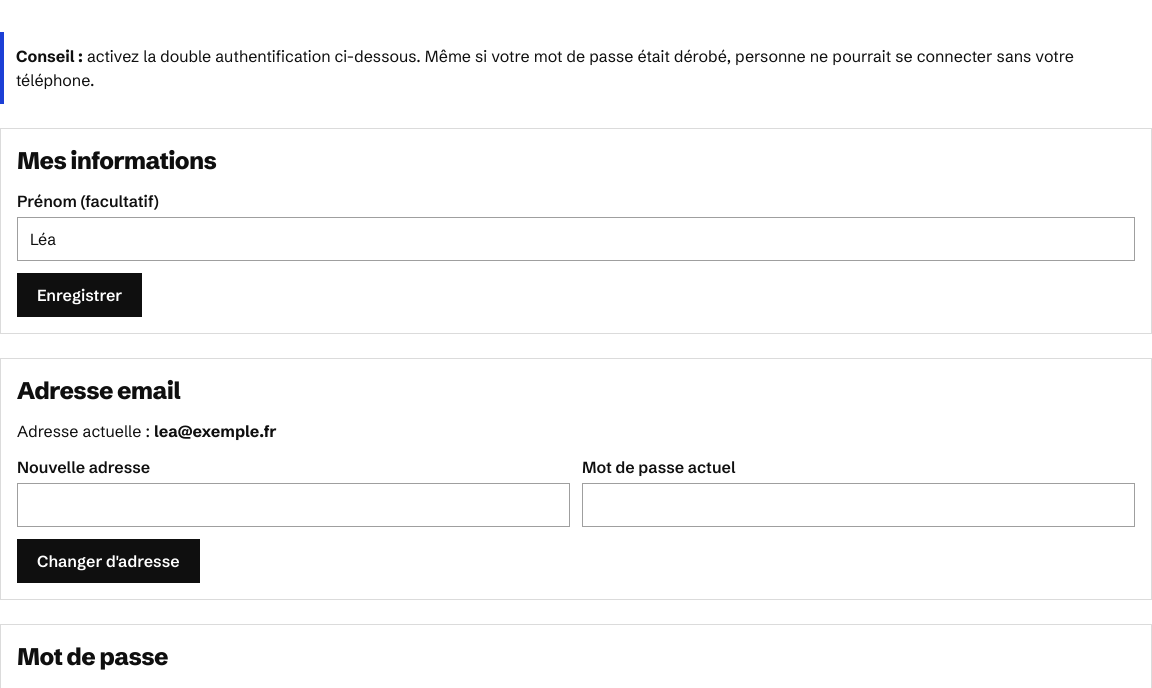
Test: AccountSettings : email › mot de passe refusé : erreur affichée et formulaire conservé
This screenshot has width=1152, height=688.
Type "autre@exemple.fr" into the field labelled "Nouvelle adresse".
click(294, 505); type("autre@exemple.fr")  # box [17,483,570,527]
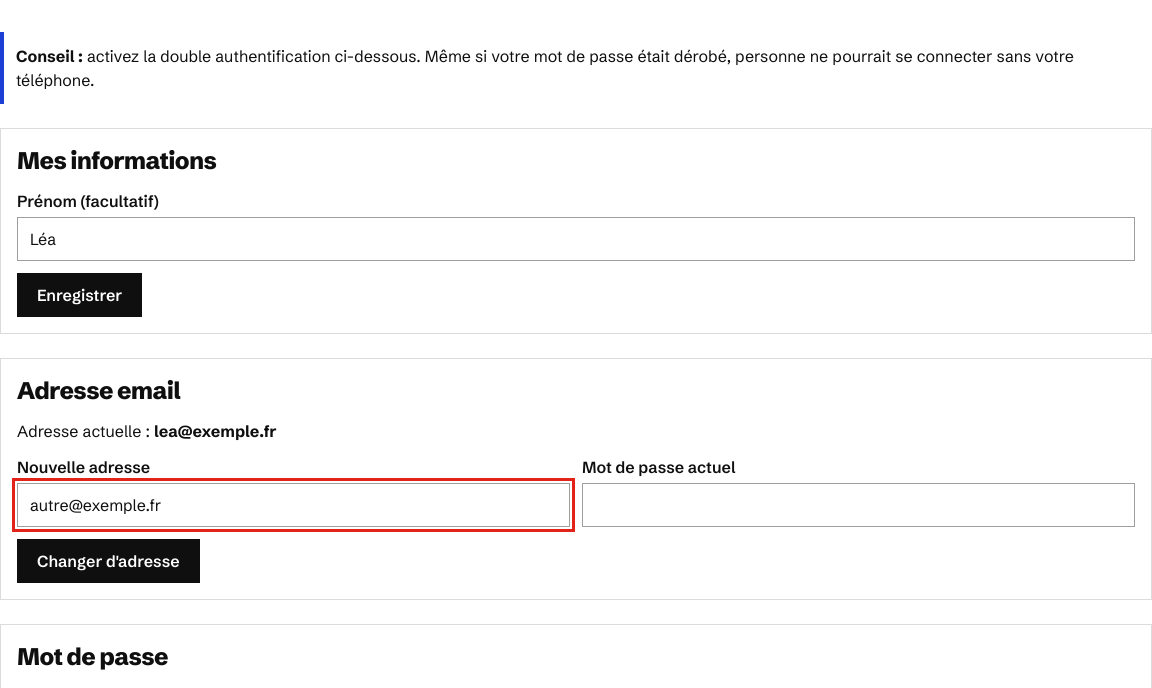
Type "Ancien-mot-2026" into the 1st password field labelled "Mot de passe actuel".
click(858, 505); type("Ancien-mot-2026")  # box [582,483,1135,527]
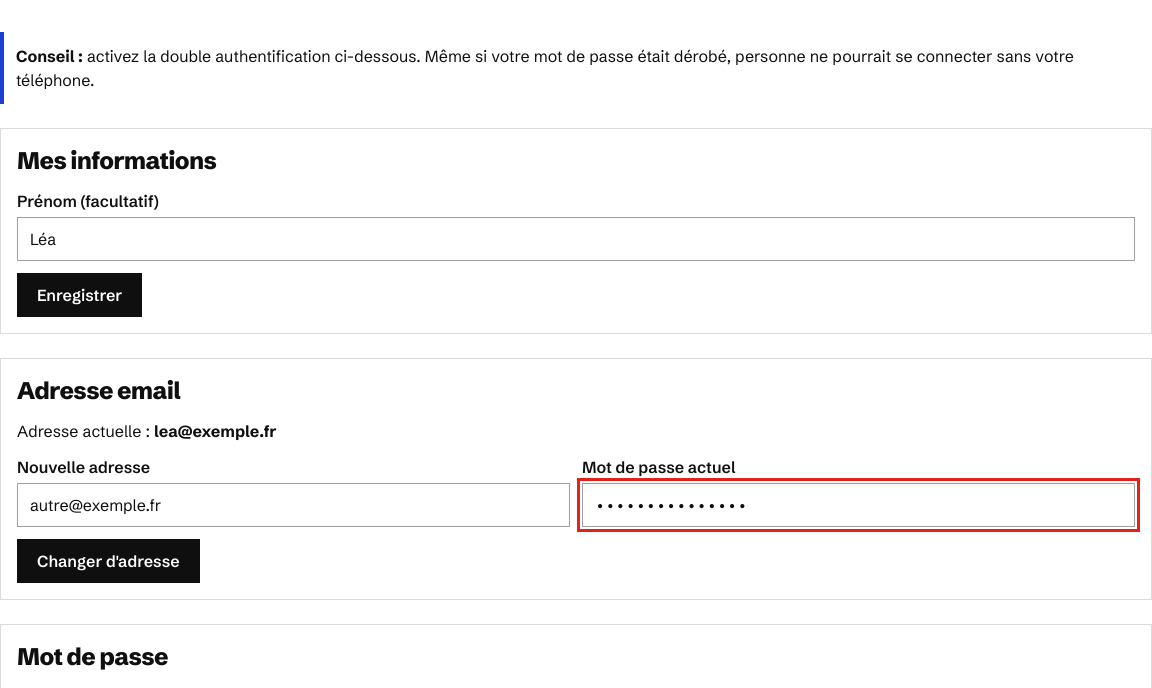
Click the button "Changer d'adresse".
click(108, 561)  # box [17,539,200,583]
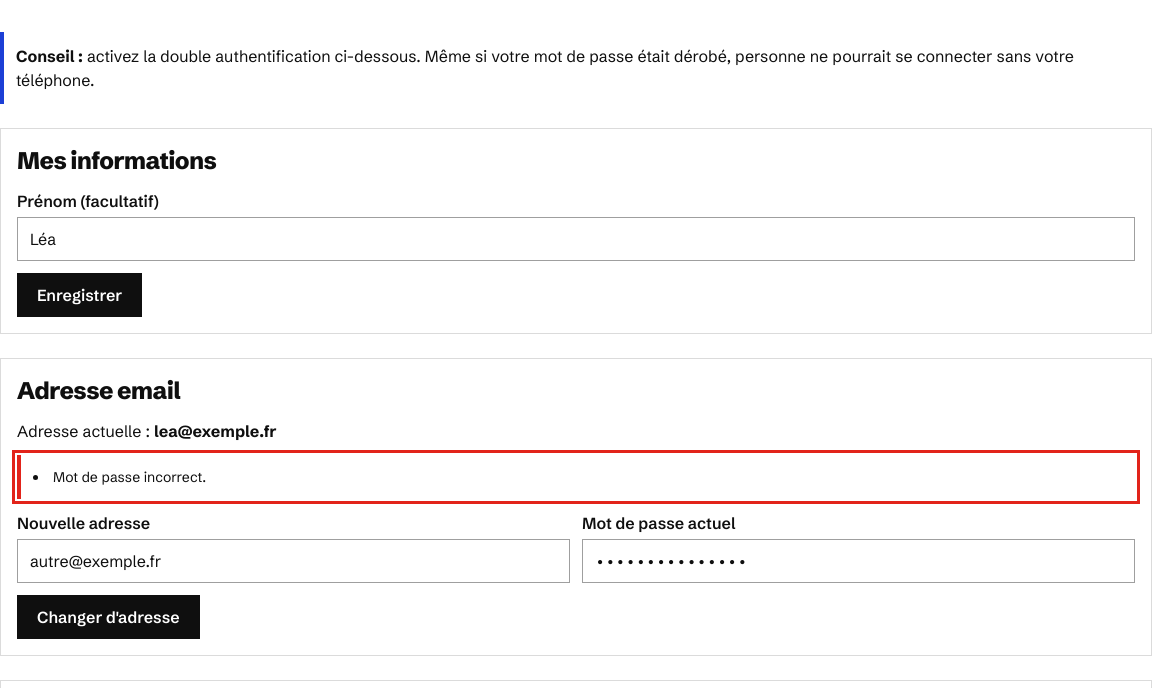
expect the button "Changer d'adresse" is enabled: met, box [17,595,200,639]
expect the message reads "Mot de passe incorrect.": met, box [53,468,206,486]
